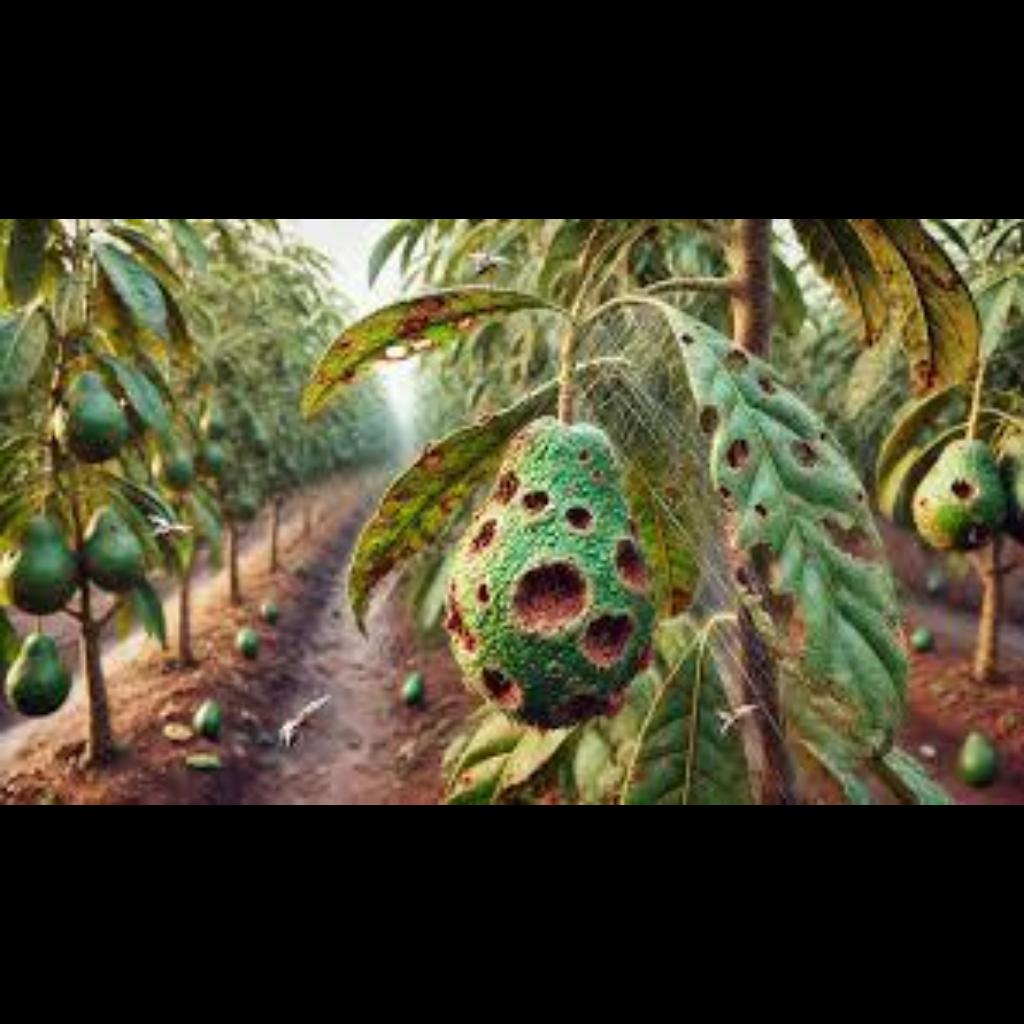antracnosis_fruto: (456, 464, 635, 712)
